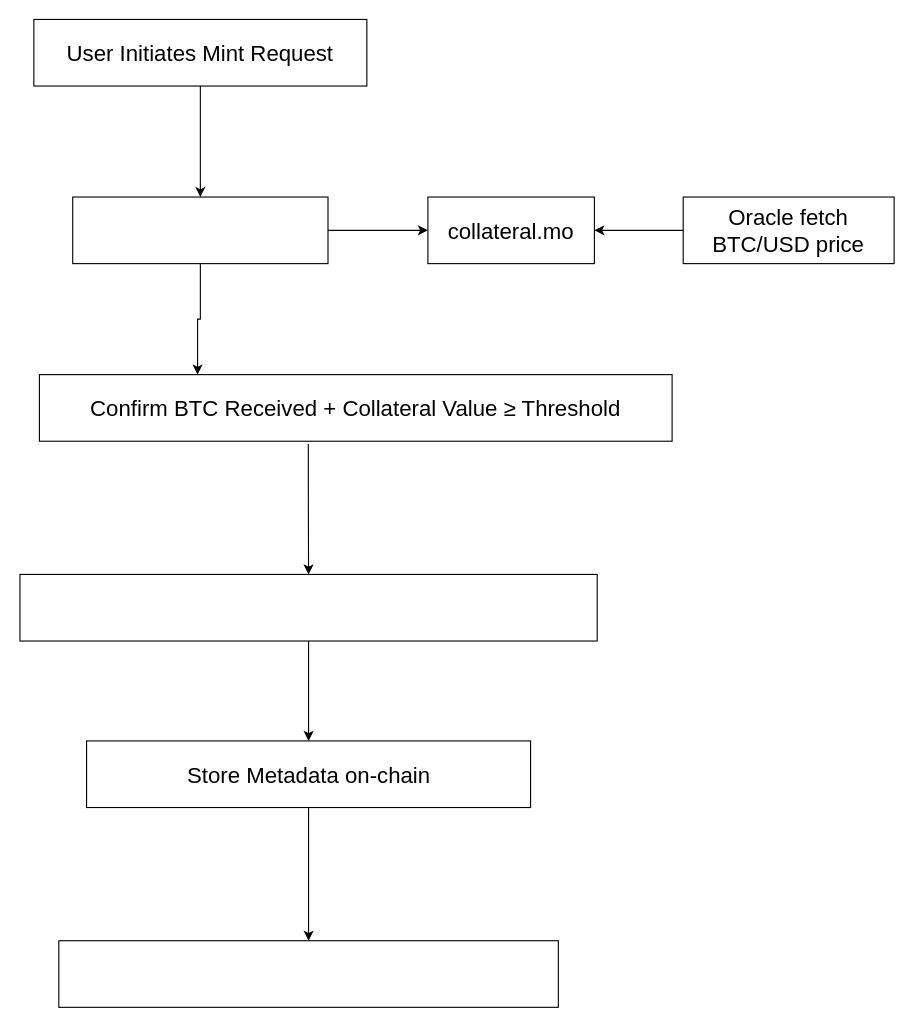
Image size: 914x1027. Some labels were removed from this diagram. Each missing label, with the box of its shape:
Generate runeID + Timestamp + Collateral info: (19, 573, 597, 641)
Return Minted USDB Rune to User: (58, 940, 558, 1007)
Send BTC to Custody Address: (72, 196, 328, 264)
